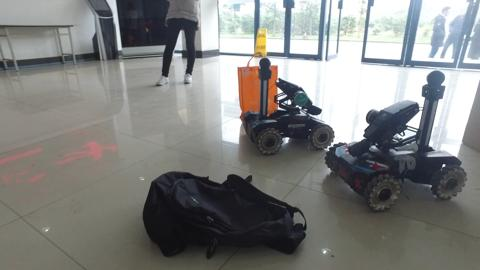bag: (145, 170, 305, 253)
chariot: (323, 68, 469, 213), (243, 59, 334, 149)
